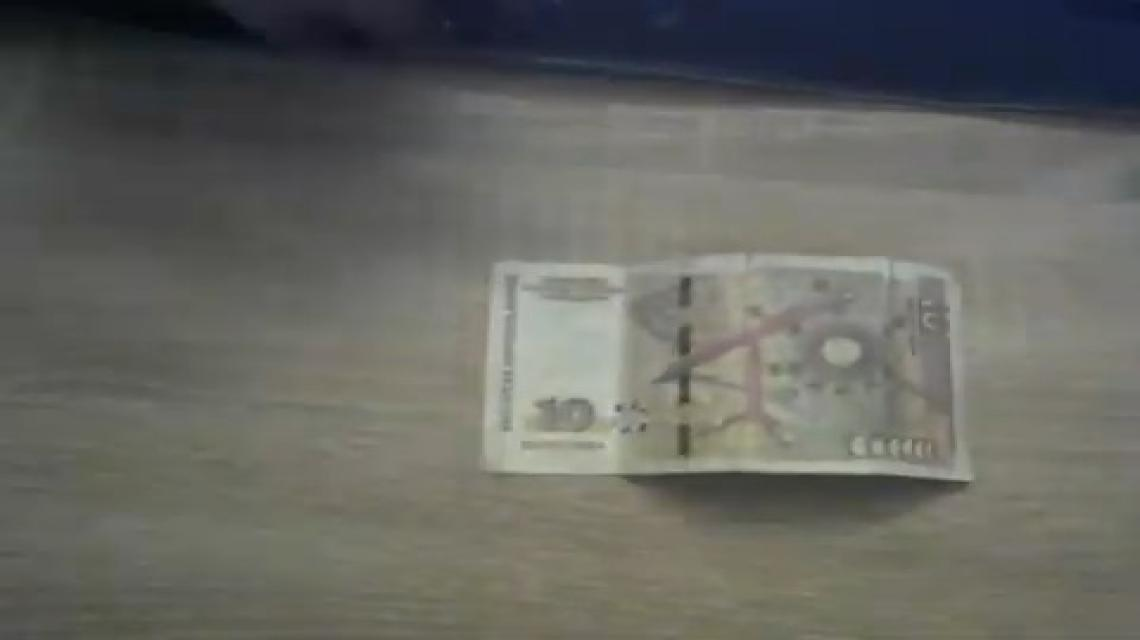10leva: (477, 254, 971, 484)
